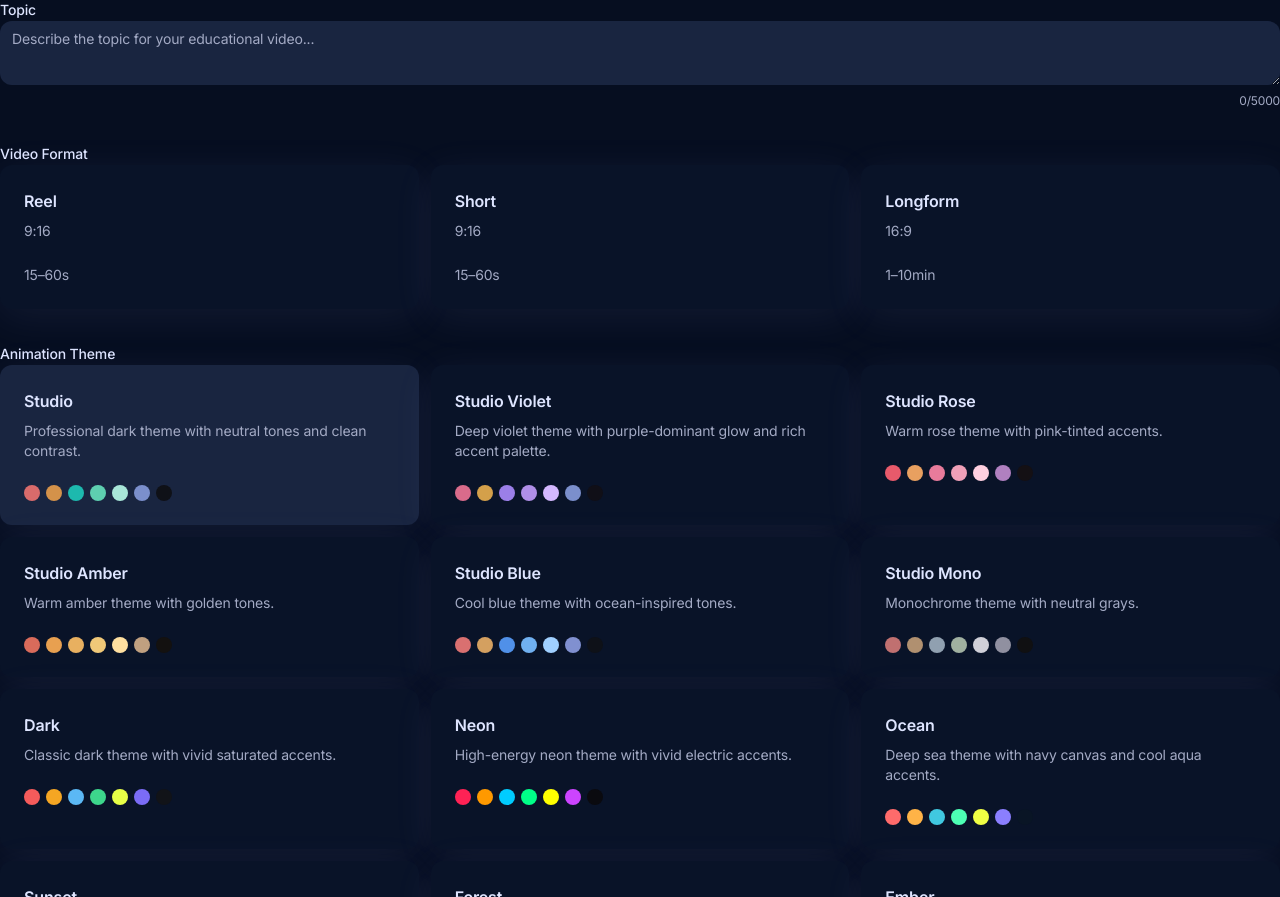
Test: PipelineWizard › shows validation error when topic is too short
Type "ab" into the text box labelled "Topic". click: (640, 53)
box: [0, 21, 1279, 85]
(page scrolled)
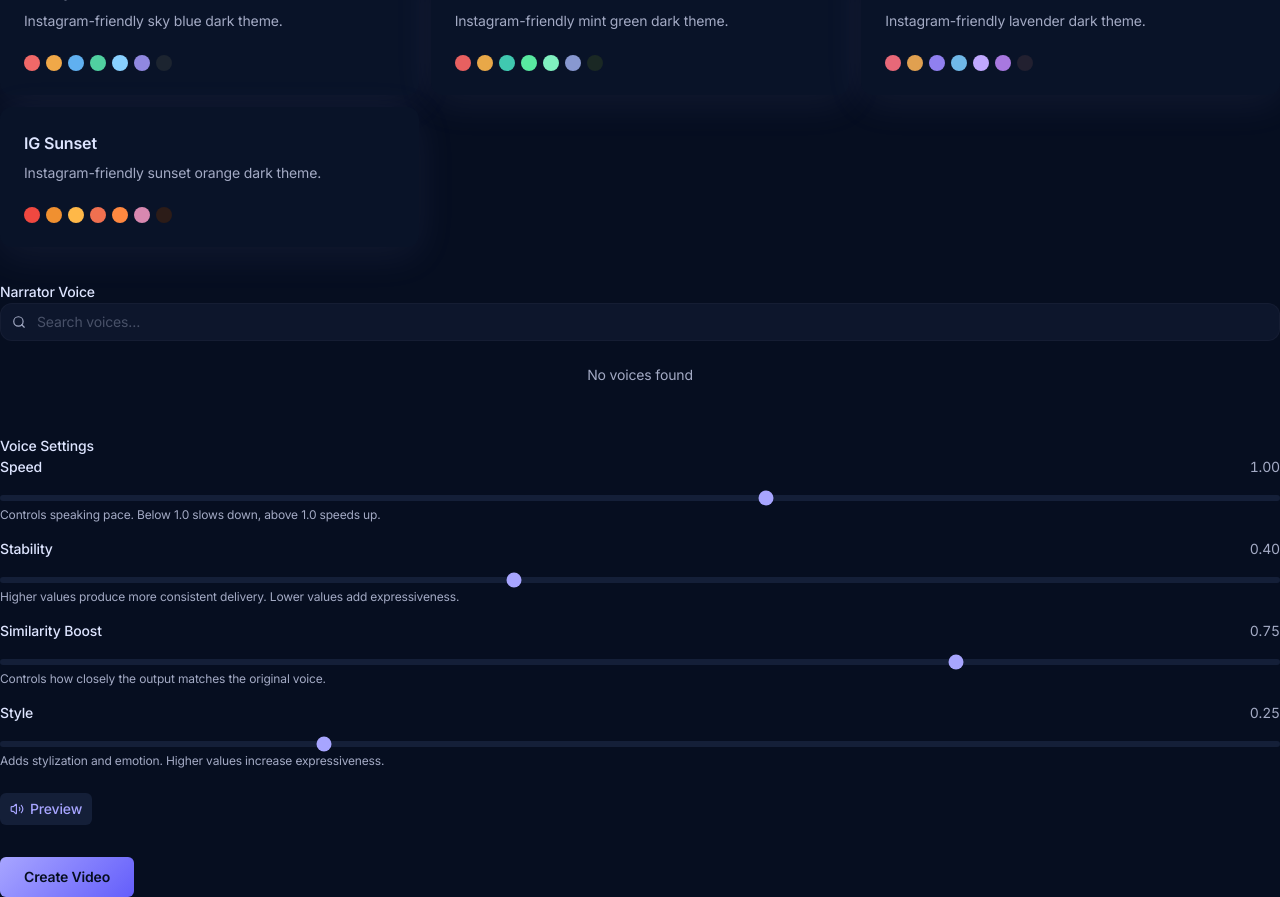
Click the button "Create Video". click: (67, 877)
box: [0, 857, 134, 896]
(page scrolled)
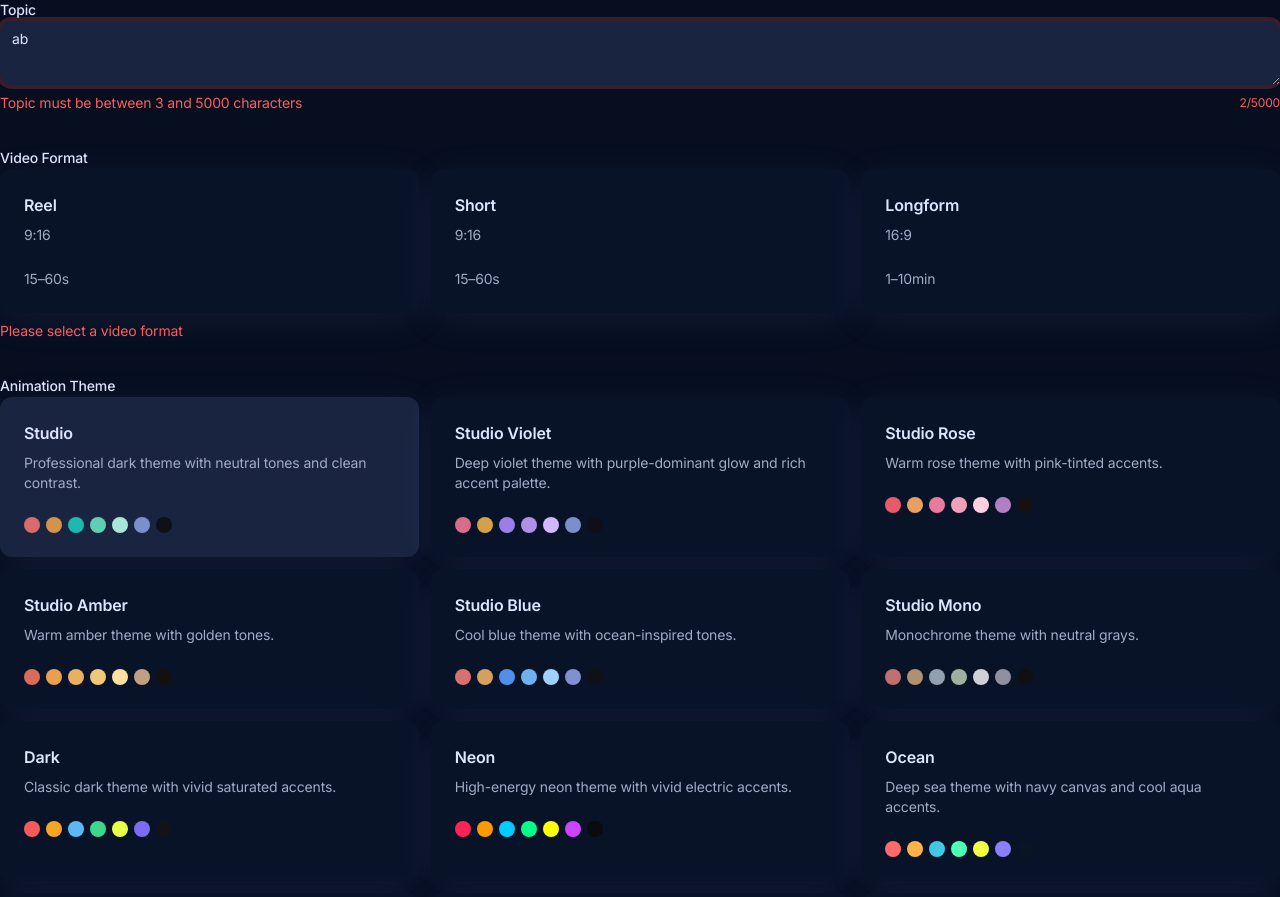
Now the text "Topic must be between 3 and 5000 characters" is shown, box [0, 93, 302, 113]
